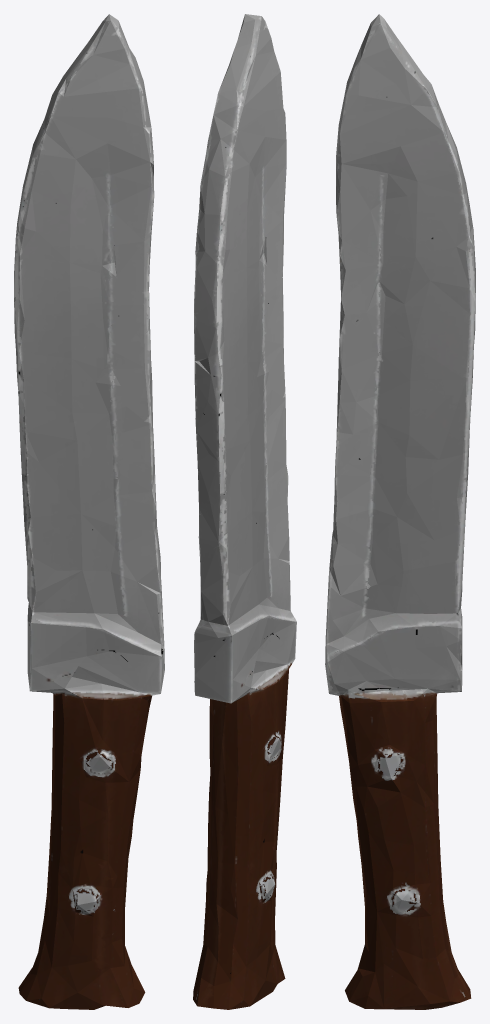
The model's file is tool.machete.glb.
3 renders of one model, left to right at view 1: azimuth 90°, elevation 25°; view 2: azimuth 150°, elevation 25°; view 3: azimuth 270°, elevation 25°, orthographic.
Parts seen in each view (by area): view 1: lowpoly; view 2: lowpoly; view 3: lowpoly.
Boxes of the visible parts, x1,y1,x2,y2 form: lowpoly: [14, 14, 164, 1009]; lowpoly: [193, 14, 296, 1009]; lowpoly: [325, 14, 475, 1009].
Bounding box in the file's own units: 0.0664 × 0.9976 × 0.1392.
Materials: 1 (1 with a texture image).
